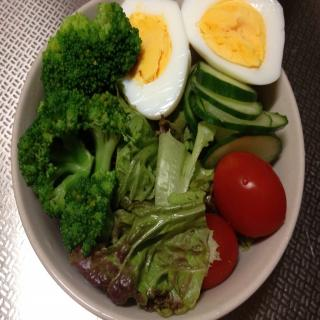Broccoli: (15, 2, 142, 260)
Cucumber: (185, 59, 288, 170), (194, 58, 256, 103)
Egg: (119, 0, 286, 121), (180, 0, 285, 84), (120, 0, 193, 118)
Tomato: (209, 147, 288, 235), (202, 212, 238, 292)
